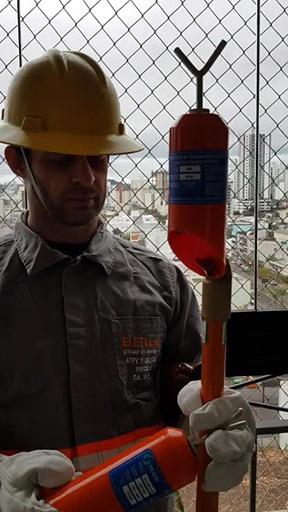Detector_Tensao_Contato: (40, 405, 248, 512), (165, 39, 229, 278)
Vara_Manobra: (192, 270, 233, 512)
